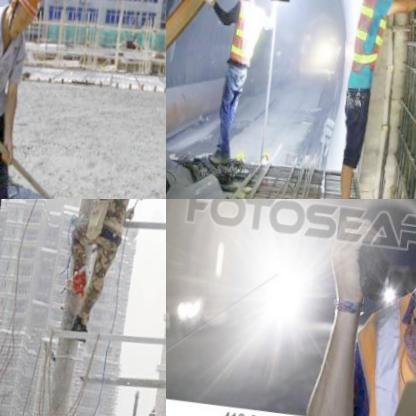helmet: (0, 0, 45, 43), (233, 0, 261, 10)
